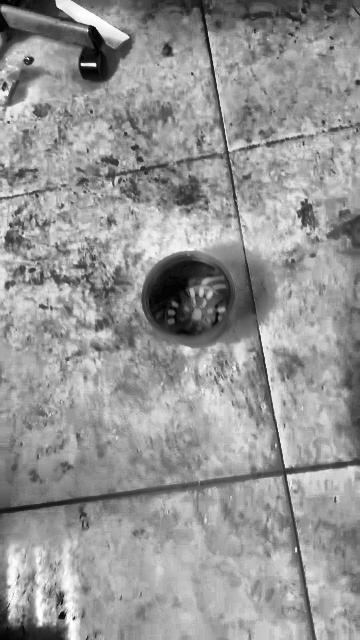pot: (142, 251, 235, 347)
